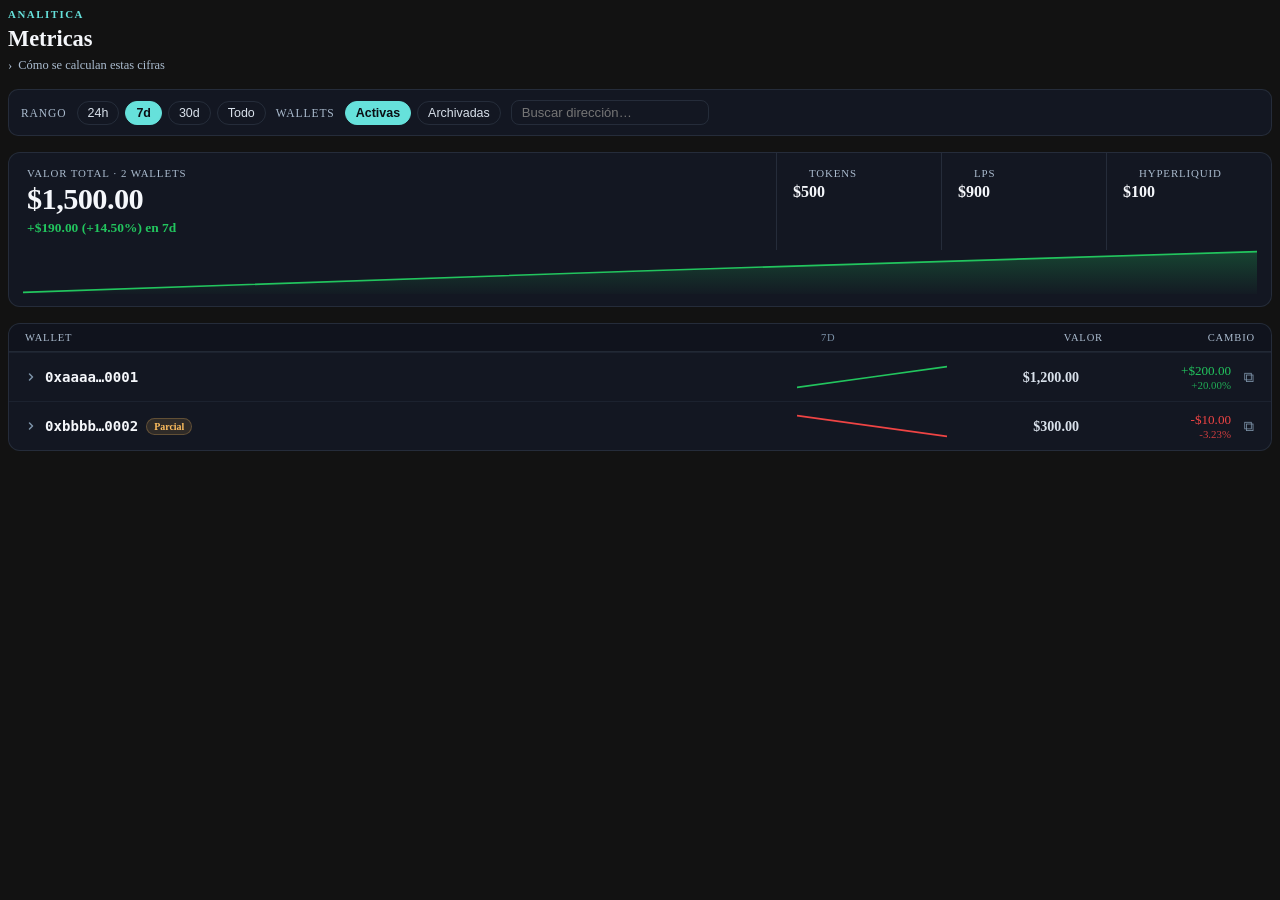
Test: MetricasPage › la pestaña Archivadas muestra las archivadas con opcion de reactivar
Expected: the text "0xaaaa…0001" is shown, x1=45 y1=369 x2=138 y2=385
Click the button "Archivadas" at (459,112), box x1=417 y1=100 x2=501 y2=124
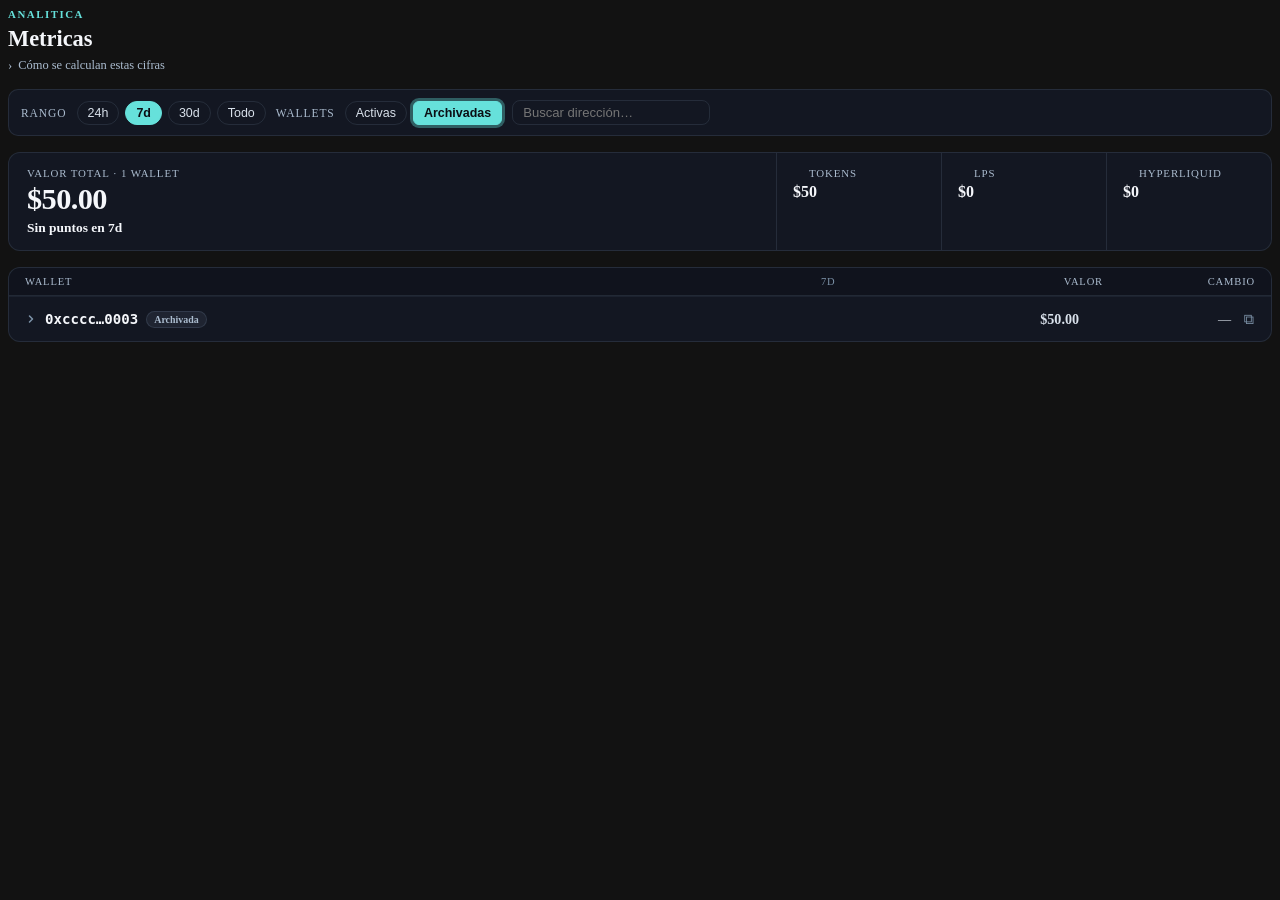
Click the button "0xcccc…0003 Archivada $50.00 —" at (92,319), box x1=9 y1=297 x2=1271 y2=341
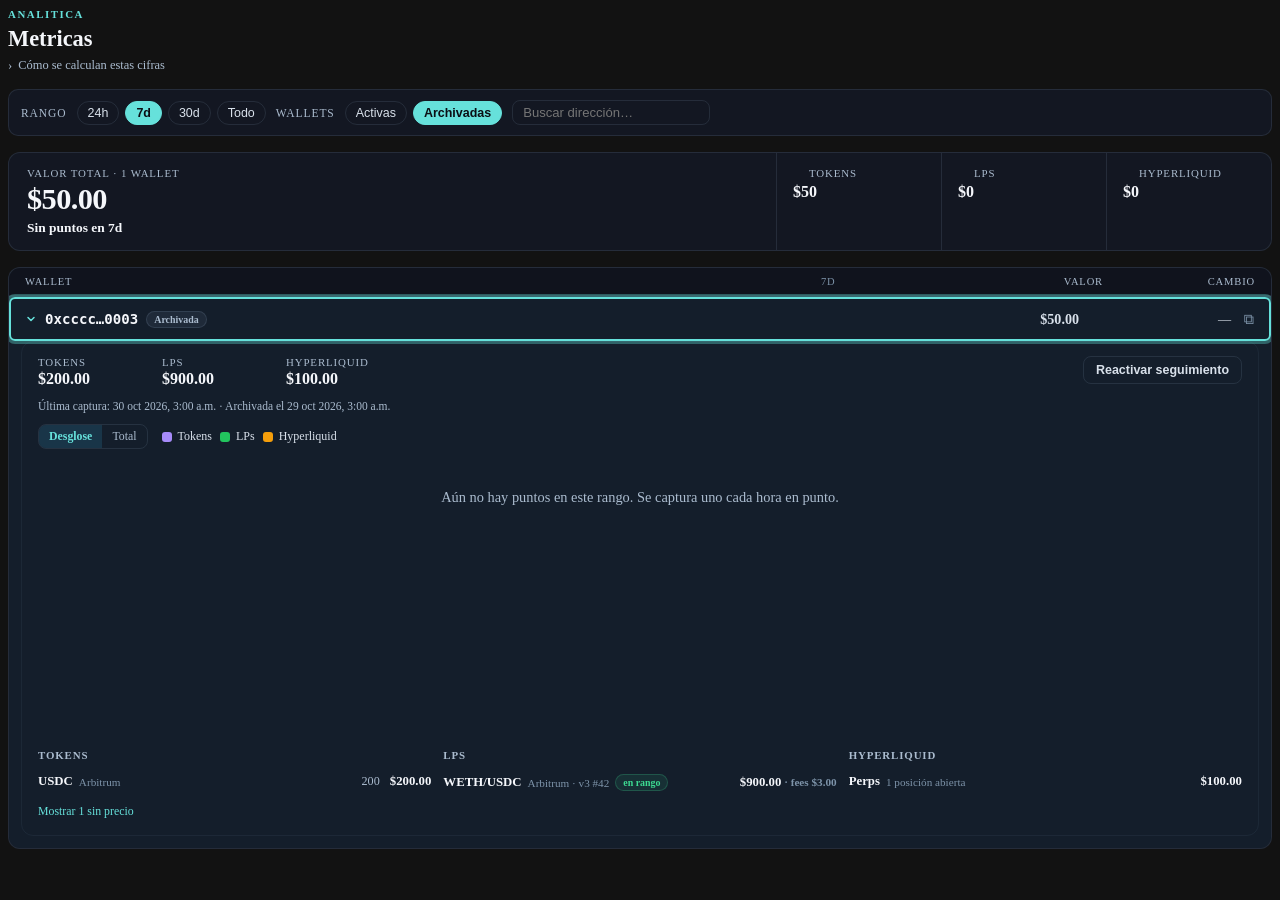
Result: the text "Archivada" is shown at x1=146 y1=311 x2=207 y2=328
Result: the button "Reactivar seguimiento" is shown at x1=1083 y1=356 x2=1242 y2=384
